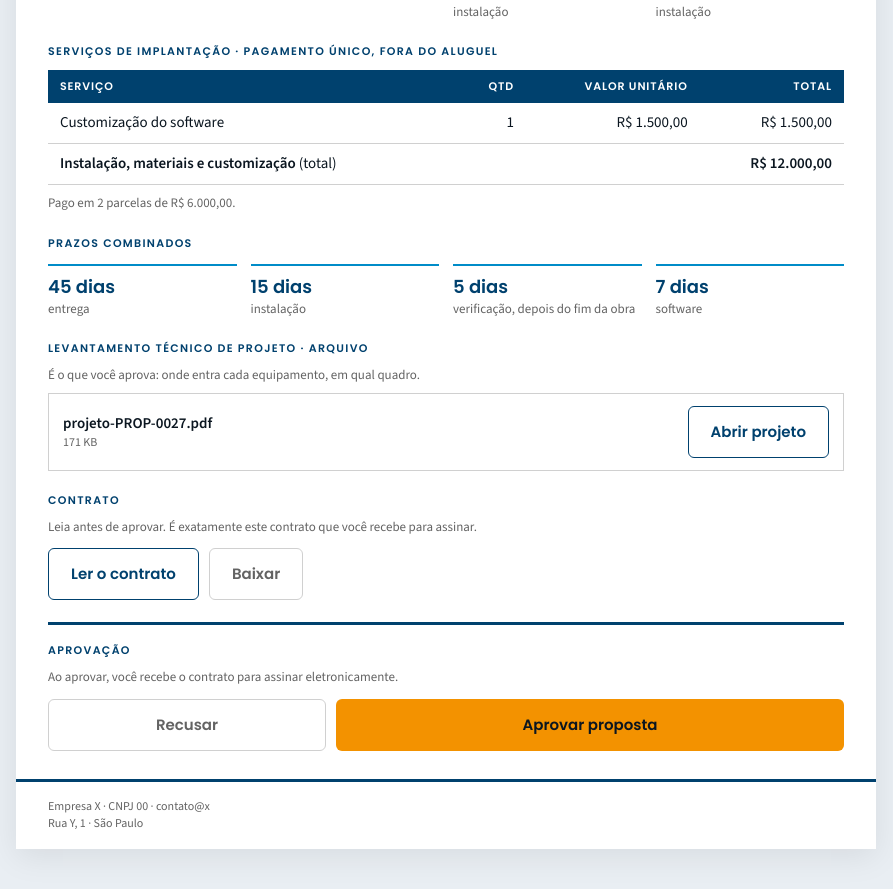
Scenario: PropostaAceitePage › CONTRATO: "Ler o contrato" busca o arquivo congelado do token e mostra aqui
The image size is (893, 889).
(page scrolled)
expect the element with test id "aceite-contrato" is shown: met, box [48,492,477,600]
Click the button with test id "aceite-ler-contrato": (123, 574) [48,548,199,600]
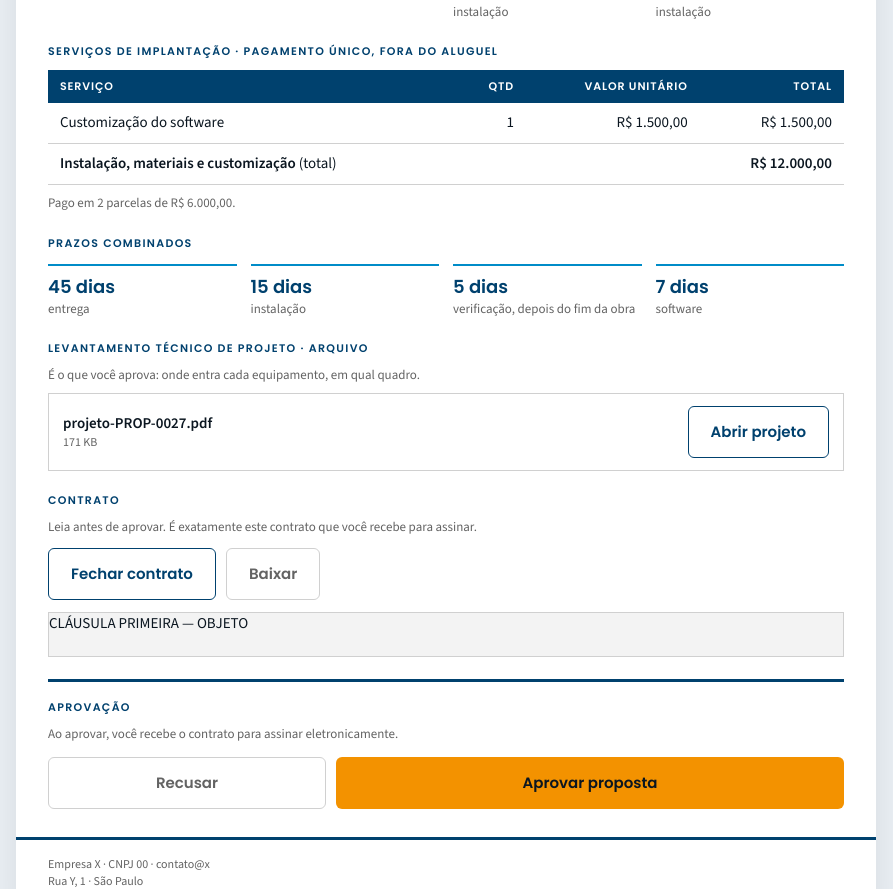
expect the element with test id "aceite-contrato-leitor" shows "CLÁUSULA PRIMEIRA": met, box [49,613,248,633]
